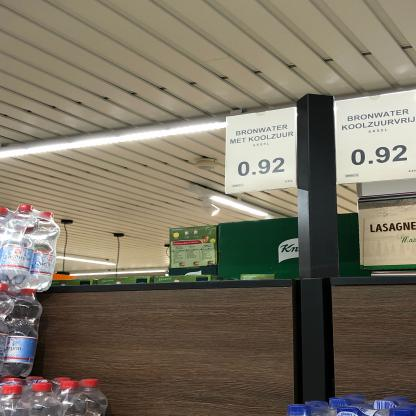prtg: (335, 91, 416, 187), (225, 108, 298, 195)
